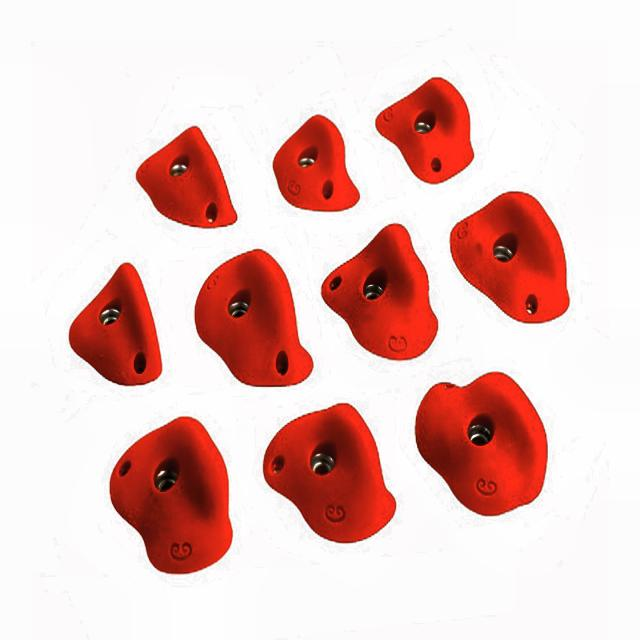Hold: (103, 417, 236, 573), (259, 404, 395, 546), (417, 373, 546, 514), (442, 188, 572, 325), (192, 244, 315, 387), (317, 224, 441, 359), (368, 75, 478, 182), (128, 124, 239, 220), (266, 108, 364, 211)
